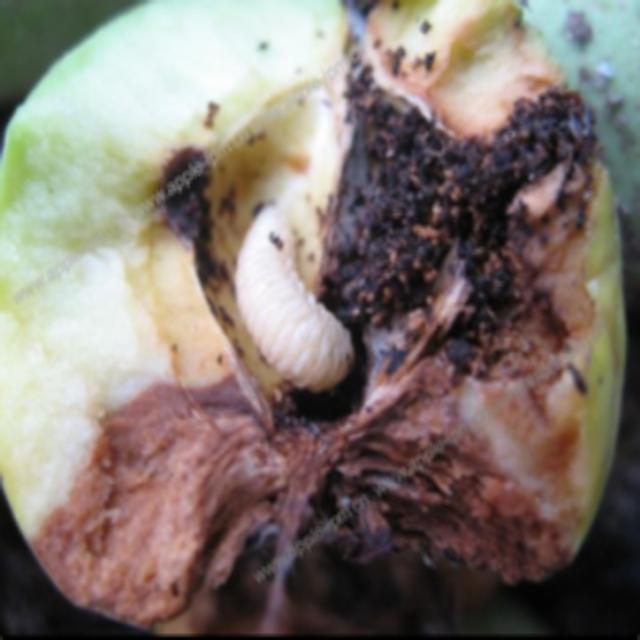peach borer: (233, 203, 363, 403)
